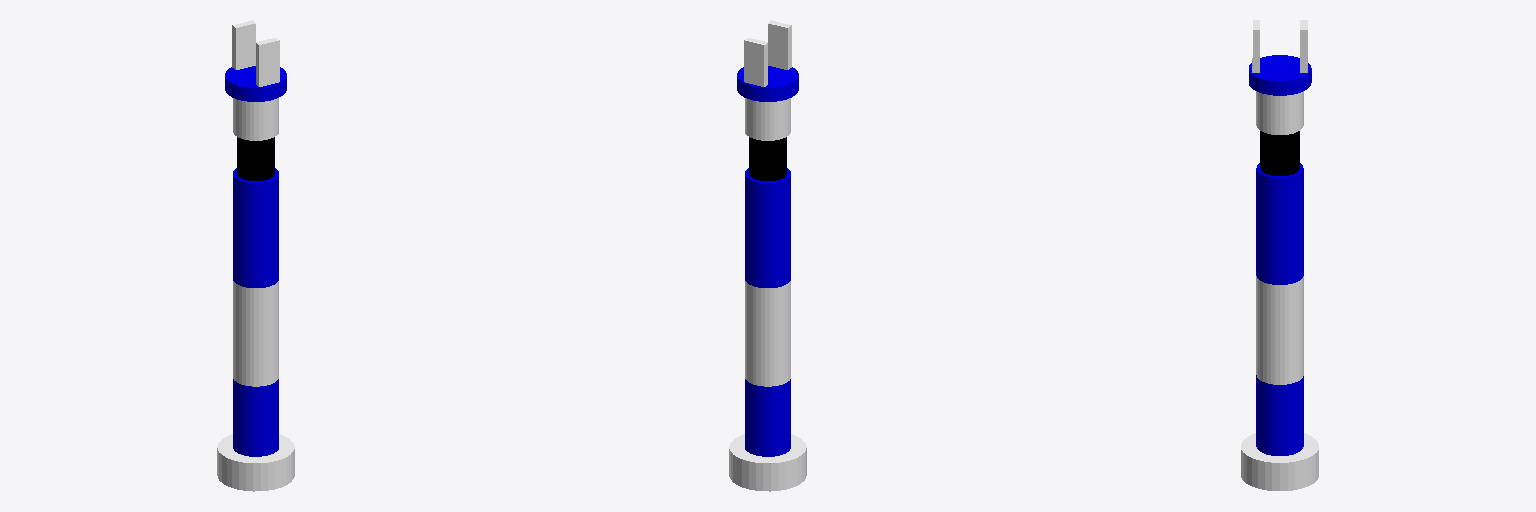
robot.urdf — marm:
<?xml version="1.0" ?>
<robot name="marm">

<!-- /////////////////////////////////////    COLOR    ///////////////////////////////////////////// -->
	<material name="Black">
		<color rgba="0 0 0 1"/>
	</material>
	<material name="White">
		<color rgba="1 1 1 1"/>
	</material>
	<material name="Blue">
		<color rgba="0 0 1 1"/>
	</material>
	<material name="Red">
		<color rgba="1 0 0 1"/>
	</material>

<!-- /////////////////////////////////////    BASE    ///////////////////////////////////////////// -->
	<link name="base_link">
		<visual>
			<origin rpy="0 0 0" xyz="0 0 0"/>
			<geometry>
				<cylinder length="0.04" radius="0.05"/>
			</geometry>
			<material name="White"/>
		</visual>
	</link>

<!-- /////////////////////////////////////   LINK1  ////////////////////////////////////////////// -->
	<link name="link1">
		<visual>
			<origin rpy="0 1.5707 0" xyz="-0.05 0 0"/>
			<geometry>
				<cylinder length="0.1" radius="0.03"/>
			</geometry>
			<material name="Blue"/>
		</visual>
	</link>

	<joint name="joint1" type="revolute">
		<parent link="base_link"/>
		<child link="link1"/>
		<origin rpy="0 1.5707 0" xyz="0 0 0.02"/>
		<axis xyz="-1 0 0"/>
		<limit effort="300" lower="-3.14159" upper="3.14159" velocity="1"/>
	</joint>

<!-- ///////////////////////////////////////   LINK2  ////////////////////////////////////////////// -->
	<link name="link2">
		<visual>
			<origin rpy="0 0 0" xyz="0 0 0.07"/>
			<geometry>
				<cylinder length="0.14" radius="0.03"/>
			</geometry>
			<material name="White"/>
		</visual>
	</link>

	<joint name="joint2" type="revolute">
		<parent link="link1"/>
		<child link="link2"/>
		<origin rpy="-1.5707 0 1.5707" xyz="-0.1 0 0.0"/>
		<axis xyz="1 0 0"/>
		<limit effort="300" lower="-3.14159" upper="3.14159" velocity="1"/>
	</joint>

<!-- /////////////////////////////////   LINK3  ///////////////////////////////////////////////////// -->
	<link name="link3">
		<visual>
			<origin rpy="0 0 0" xyz="0 0 -0.075"/>
			<geometry>
				<cylinder length="0.15" radius="0.03"/>
			</geometry>
			<material name="Blue"/>
		</visual>
	</link>

	<joint name="joint3" type="revolute">
		<parent link="link2"/>
		<child link="link3"/>
		<origin rpy="0 3.14159 0" xyz="0 0 0.14"/>
		<axis xyz="-1 0 0"/>
		<limit effort="300" lower="-3.14159" upper="3.14159" velocity="1"/>
	</joint>

<!-- ///////////////////////////////////   LINK4  //////////////////////////////////////////////// -->
	<link name="link4">
		<visual>
			<origin rpy="0 1.5707 0" xyz="0.03 0 0"/>
			<geometry>
				<cylinder length="0.06" radius="0.025"/>
			</geometry>
			<material name="Black"/>
		</visual>
	</link>

	<joint name="joint4" type="revolute">
		<parent link="link3"/>
		<child link="link4"/>
		<origin rpy="0 1.5707 3.14159" xyz="0.0 0.0 -0.15"/>
		<axis xyz="1 0 0"/>
		<limit effort="300" lower="-3.14159" upper="3.14159" velocity="1"/>
	</joint>

<!-- //////////////////////////////////   LINK5  ///////////////////////////////////////////////// -->
	<link name="link5">
		<visual>
			<origin rpy="0 0 0" xyz="0 0 0.03"/>
			<geometry>
				<cylinder length="0.06" radius="0.03"/>
			</geometry>
			<material name="White"/>
		</visual>
	</link>

	<joint name="joint5" type="revolute">
		<parent link="link4"/>
		<child link="link5"/>
		<origin rpy="0 1.5707 0" xyz="0.06 0.0 0.0"/>
		<axis xyz="1 0 0"/>
		<limit effort="300" lower="-3.14159" upper="3.14159" velocity="1"/>
	</joint>

<!-- ////////////////////////////////   LINK6  ///////////////////////////////////////////////// -->
	<link name="link6">
		<visual>
			<origin rpy="0 1.5707 0" xyz="0.01 0 0 "/>
			<geometry>
				<cylinder length="0.02" radius="0.04"/>
			</geometry>
			<material name="Blue"/>
		</visual>
	</link>

	<joint name="joint6" type="revolute">
		<parent link="link5"/>
		<child link="link6"/>
		<origin rpy="4.712385 -1.5707 0" xyz="0 0 0.06"/>
		<axis xyz="1 0 0"/>
		<limit effort="300" lower="-6.28318" upper="6.28318" velocity="1"/>
	</joint>

<!-- //////////////////////////////////////   GRIPPER   ////////////////////////////////////////////// -->
	<link name="gripper_finger_link1">
		<visual>
			<origin rpy="0 1.5707 0" xyz="0.03 0 0"/>
			<geometry>
				<box size="0.03 0.01 0.06"/>
			</geometry>
			<material name="White"/>
		</visual>
	</link>

	<link name="gripper_finger_link2">
		<visual>
			<origin rpy="0 1.5707 0" xyz="0.03 0 0"/>
			<geometry>
				<box size="0.03 0.01 0.06"/>
			</geometry>
			<material name="White"/>
		</visual>
	</link>

	<joint name="finger_joint1" type="prismatic">
		<parent link="link6"/>
		<child link="gripper_finger_link1"/>
		<origin rpy="0 0 0" xyz="0.02 -0.03 0"/>
		<axis xyz="0 1 0"/>
		<limit effort="100" lower="0" upper="0.06" velocity="0.02"/>
	</joint>

	<joint name="finger_joint2" type="fixed">
		<parent link="link6"/>
		<child link="gripper_finger_link2"/>
		<origin rpy="0 0 0" xyz="0.02 0.03 0"/>
	</joint>

<!-- //////////////////////////////////////   GRASPING FRAME   ////////////////////////////////////////////// -->
	<link name="grasping_frame"/>
	
	<joint name="grasping_frame_joint" type="fixed">
		<parent link="link6"/>
		<child link="grasping_frame"/>
		<origin rpy="0 0 0" xyz="0.06 0 0"/>
	</joint>

</robot>

--- Facts derived from the render (not from the file) ---
3 views of the same robot in one strip: view 1: azimuth 30°, elevation 25°; view 2: azimuth 150°, elevation 25°; view 3: azimuth 270°, elevation 25° (orthographic).
Model marm with 10 links and 9 joints (6 revolute, 1 prismatic, 2 fixed), rooted at base_link, posed all joints at 0.
Visible links, largest first — view 1: link3, link2, link1, base_link, link5, link4, link6, gripper_finger_link1, gripper_finger_link2; view 2: link3, link2, link1, base_link, link5, link4, link6, gripper_finger_link2, gripper_finger_link1; view 3: link3, link2, link1, base_link, link6, link5, link4.
Link boxes in pixels (x1=…): link3: x1=233, y1=168, x2=278, y2=287; link2: x1=233, y1=281, x2=278, y2=386; link1: x1=233, y1=379, x2=278, y2=456; base_link: x1=217, y1=434, x2=294, y2=491; link5: x1=233, y1=98, x2=278, y2=140; link4: x1=237, y1=137, x2=274, y2=180; link6: x1=225, y1=66, x2=286, y2=101; gripper_finger_link1: x1=232, y1=20, x2=255, y2=69; gripper_finger_link2: x1=256, y1=38, x2=279, y2=86; link3: x1=745, y1=168, x2=790, y2=287; link2: x1=745, y1=281, x2=790, y2=386; link1: x1=745, y1=379, x2=790, y2=456; base_link: x1=729, y1=434, x2=806, y2=491; link5: x1=745, y1=98, x2=790, y2=140; link4: x1=749, y1=137, x2=786, y2=180; link6: x1=737, y1=66, x2=798, y2=101; gripper_finger_link2: x1=768, y1=20, x2=791, y2=69; gripper_finger_link1: x1=744, y1=38, x2=767, y2=86; link3: x1=1256, y1=163, x2=1303, y2=284; link2: x1=1256, y1=276, x2=1303, y2=384; link1: x1=1256, y1=375, x2=1303, y2=455; base_link: x1=1241, y1=433, x2=1318, y2=490; link6: x1=1249, y1=55, x2=1311, y2=95; link5: x1=1256, y1=91, x2=1303, y2=134; link4: x1=1260, y1=131, x2=1299, y2=175.
Size in the robot's own frame: 0.1 by 0.1 by 0.63 metres.
Geometry: primitives only (box / cylinder / sphere), no mesh files.
